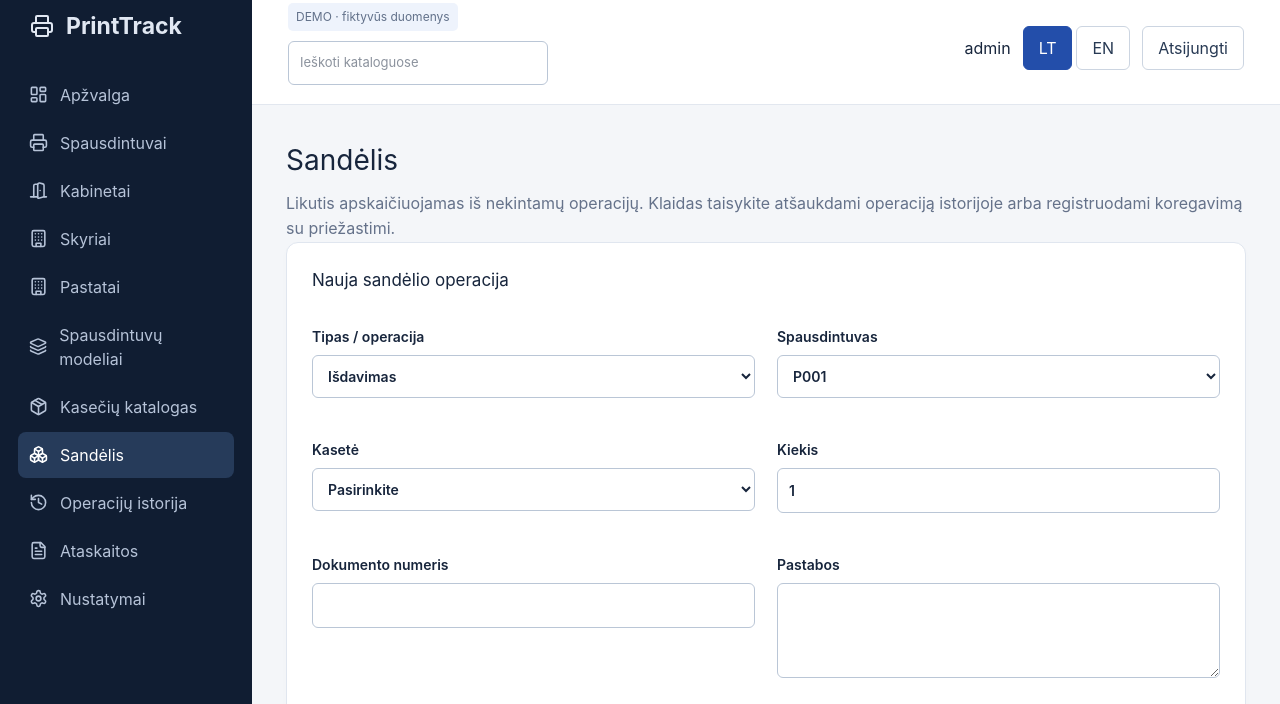
it: internationalization › only offers verified cartridges for issuing and submits the actual selection
Expected: the field labelled "Kasetė" does not show "Unverified T2"
Select "Verified T1 · Likutis: 5" in the dropdown labelled "Kasetė". click: (534, 490)
box: [312, 468, 755, 511]
(page scrolled)
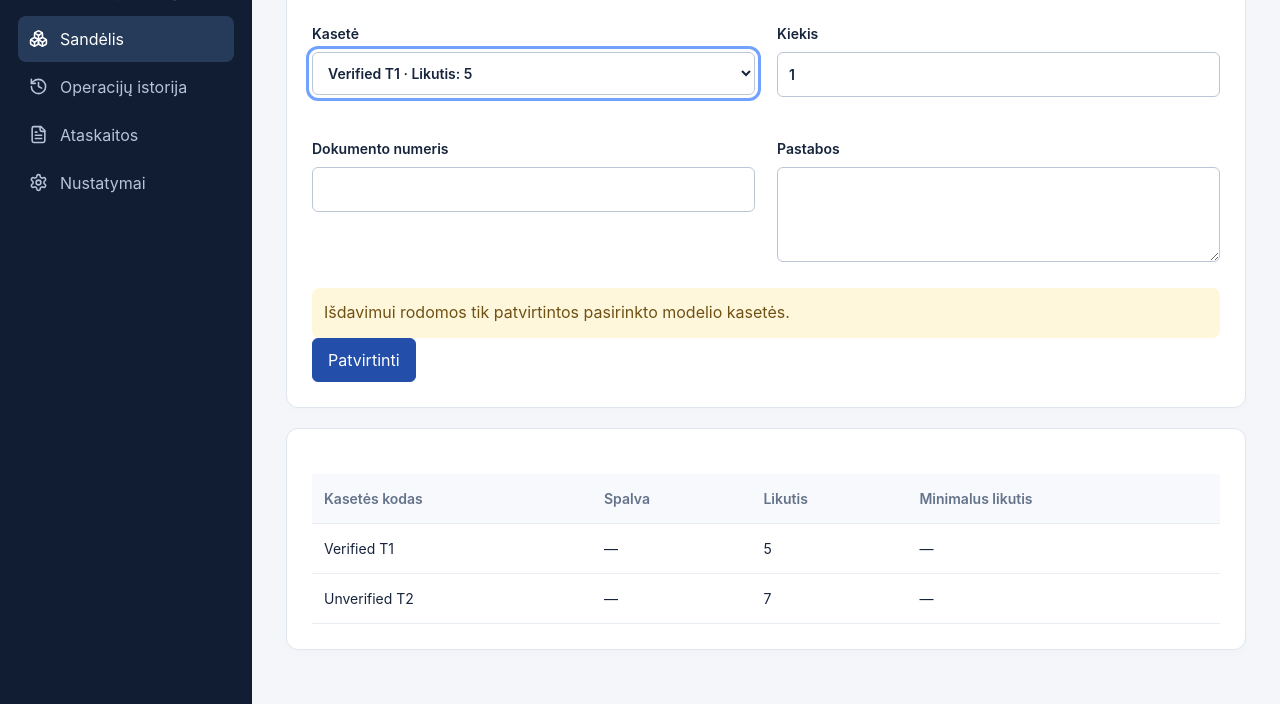
Click the button "Patvirtinti". click: (364, 360)
box: [312, 338, 416, 382]
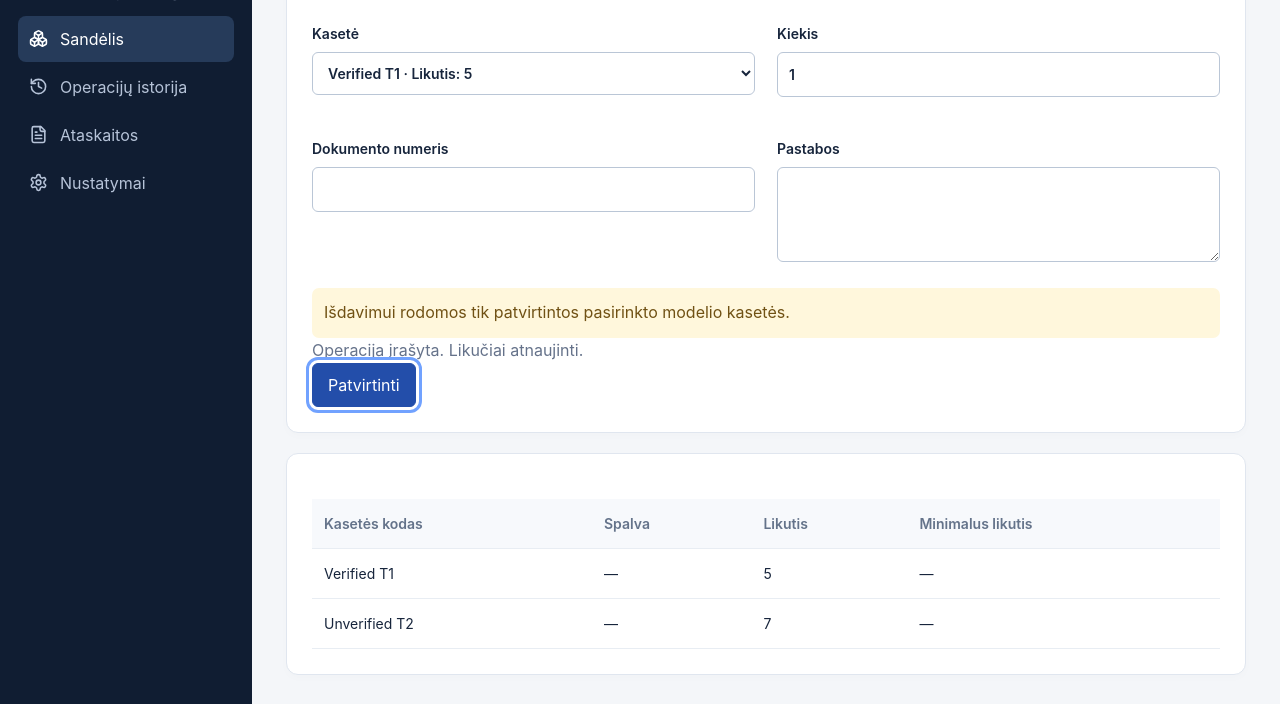
Now the message "Operacija įrašyta. Likučiai atnaujinti." is shown, box [312, 340, 583, 360]
